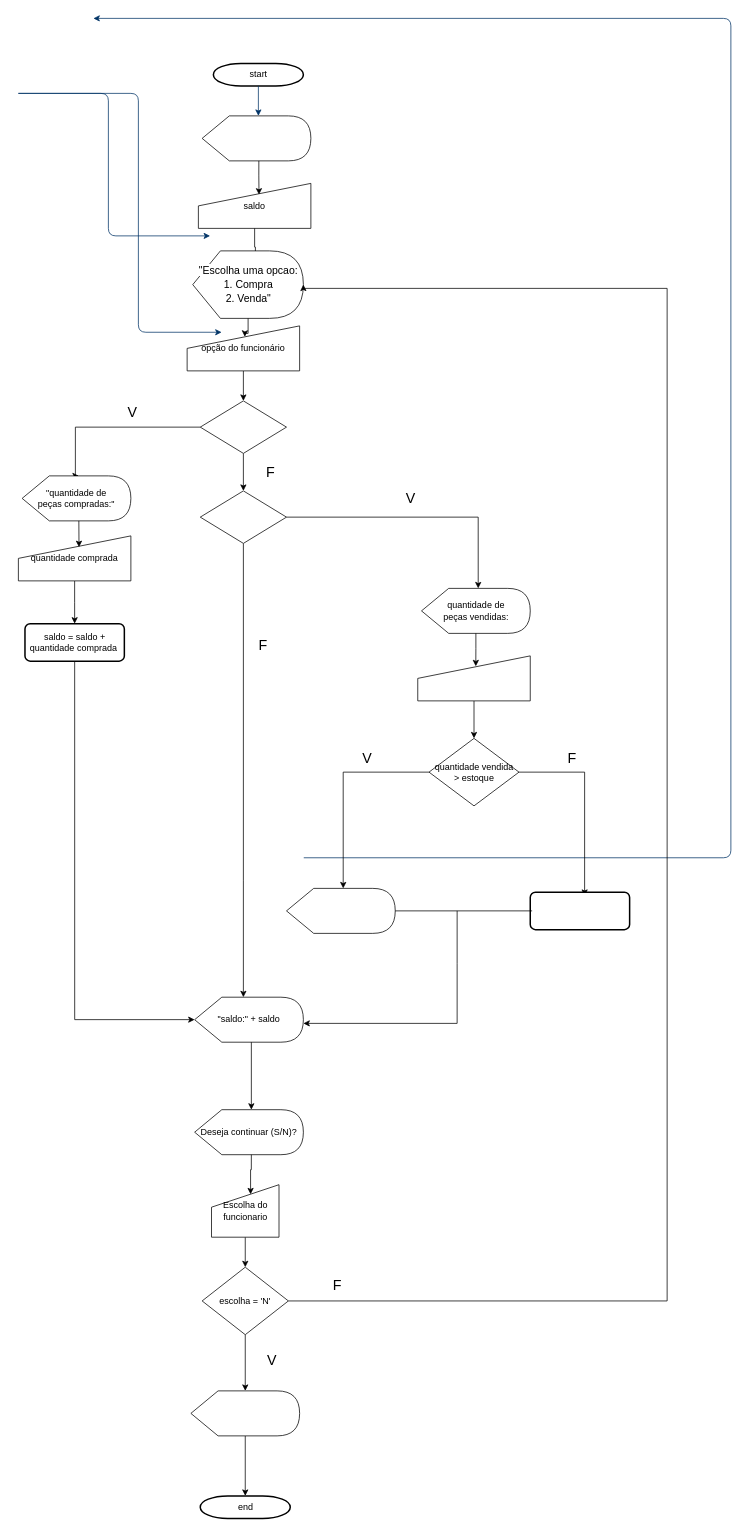
The diagram is 750 pixels wide and 1532 high, and some of its shapes have lost their labels. The centre of each missing label's shape, as x and y in pixels:
"saldo insuficiente": (x=340, y=910)
"Sistema encerrado": (x=245, y=1413)
opcao = 1: (x=243, y=426)
opcao = 2: (x=243, y=516)
quantidade vendida: (x=473, y=678)
saldo = saldo + quantidade vendida: (x=579, y=910)
saldo inicial de peças:: (x=256, y=138)
